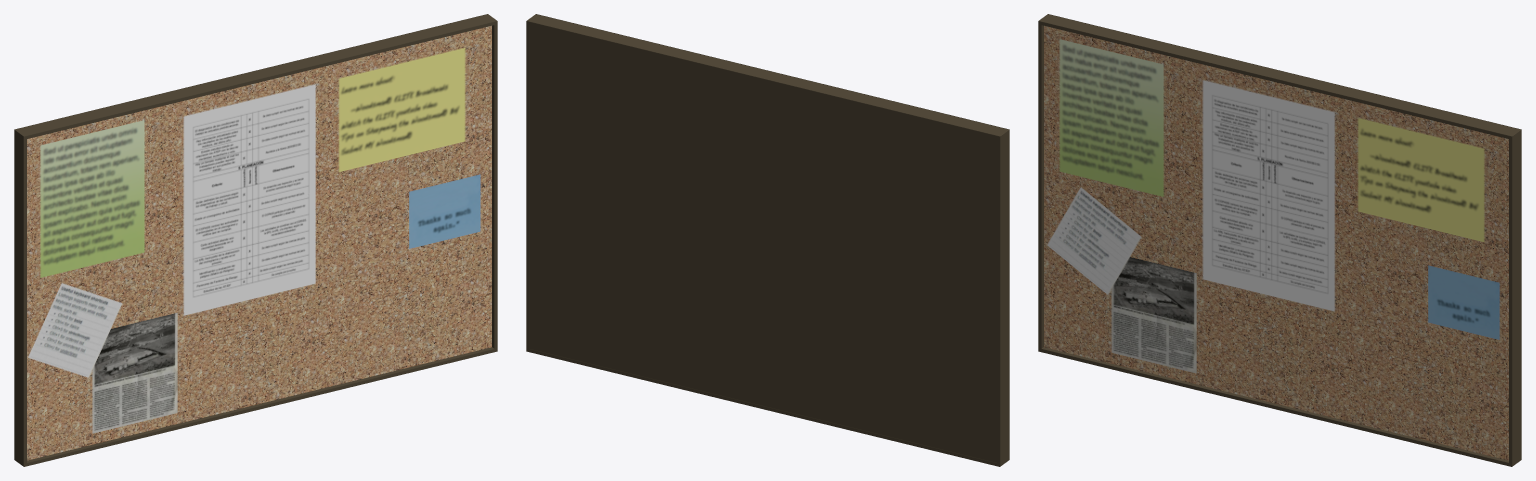
Rendered from Cork Board.FBX.
3 views of the same model, side by side, from view 1: azimuth 30°, elevation 25°; view 2: azimuth 150°, elevation 25°; view 3: azimuth 330°, elevation 25° (orthographic).
Parts seen in each view (by area): view 1: Cork Board; view 2: Cork Board; view 3: Cork Board.
Boxes of the visible parts, <box> form: Cork Board: <box>14,14,497,466</box>; Cork Board: <box>526,14,1009,466</box>; Cork Board: <box>1038,14,1521,466</box>.
Bounding box in the file's own units: 150 × 100 × 5.43.
Materials: 1 (1 with a texture image).
